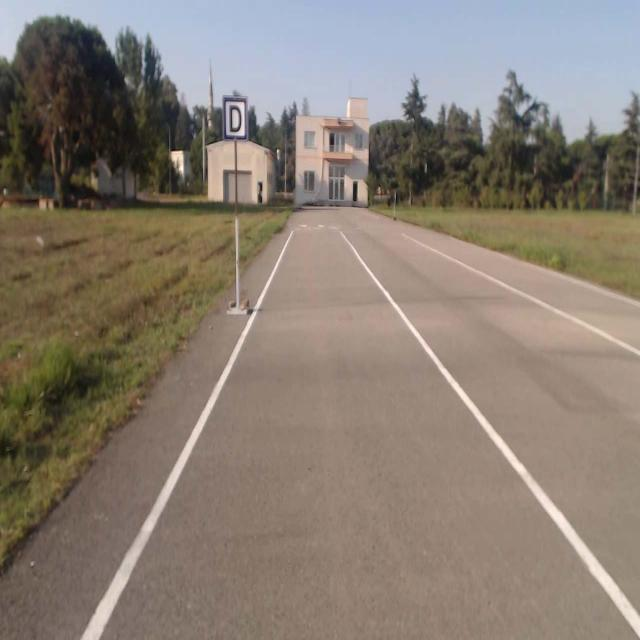durak: (224, 97, 246, 139)
